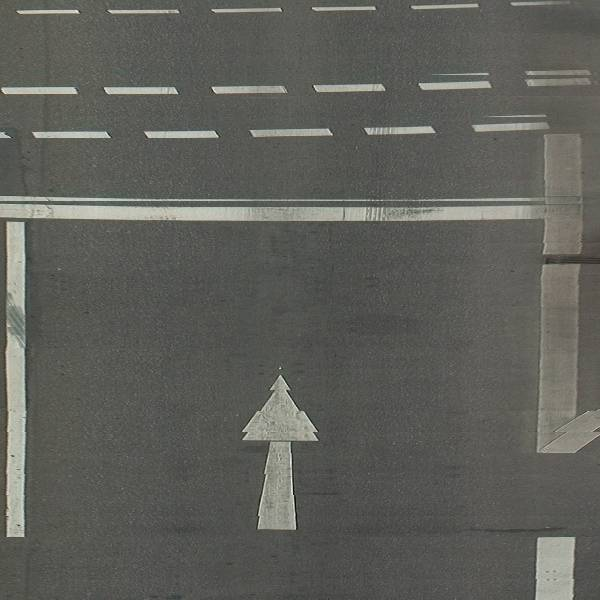road_damage: (460, 516, 577, 538)
